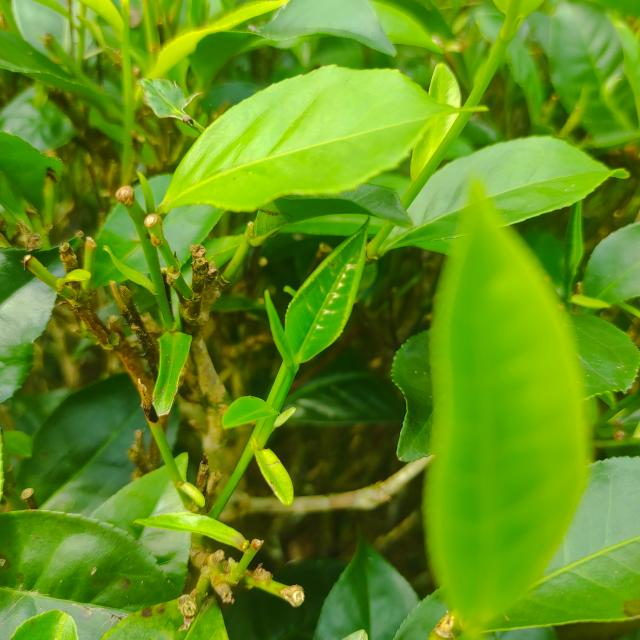unopened_leaf: (258, 286, 300, 376), (132, 165, 160, 230)
